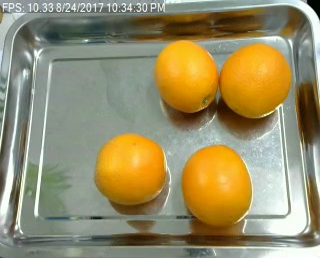Orange: (182, 143, 252, 224), (218, 43, 293, 118), (94, 134, 168, 205), (154, 40, 218, 114)
